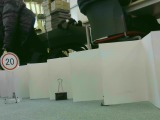speed_20: (1, 50, 21, 72)
